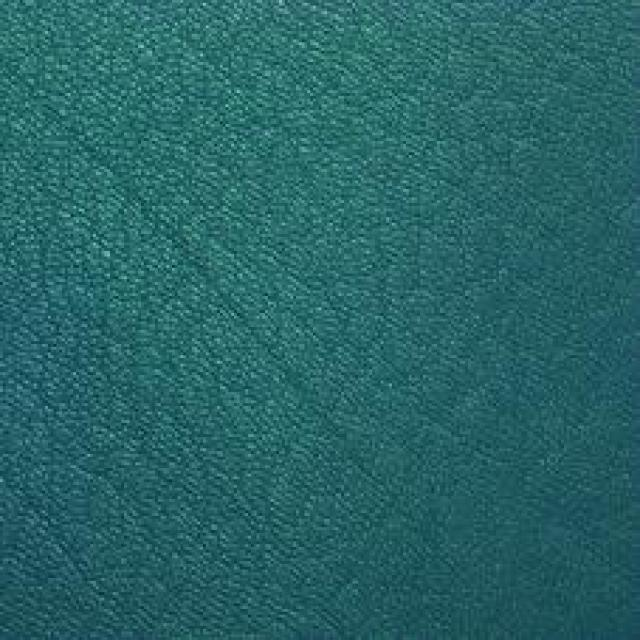Growth Marks: (207, 272, 376, 460), (30, 74, 218, 242)
